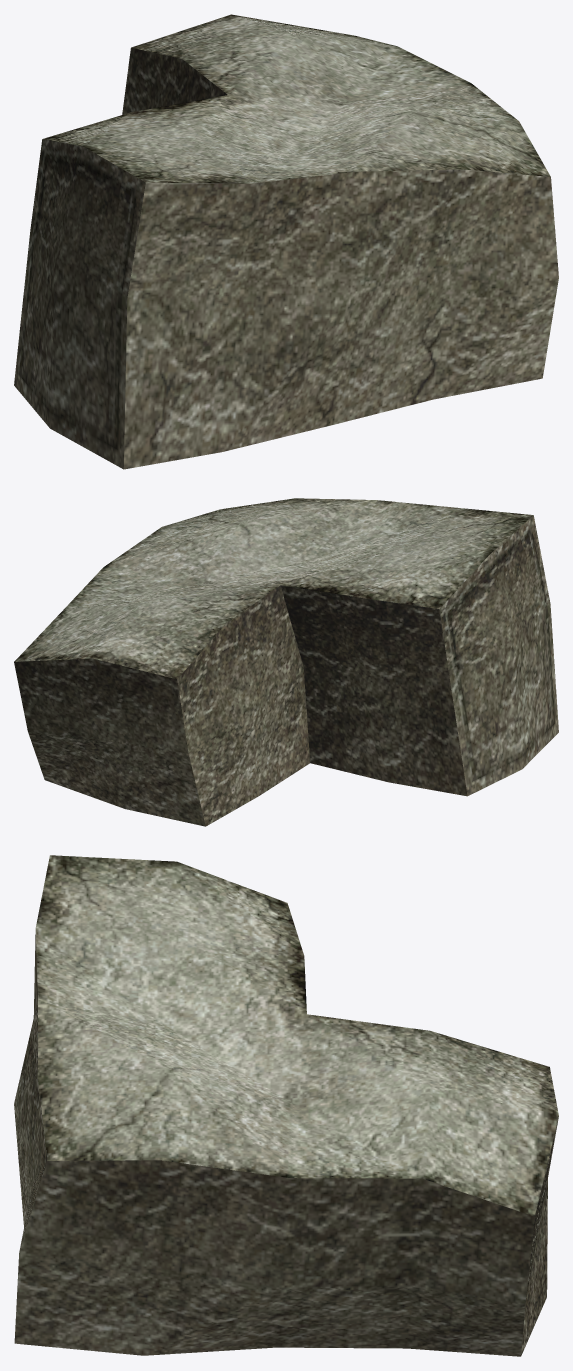
Rendered from ob-bigstone01.fbx.
3 views of the same model, one above another, from view 1: azimuth 30°, elevation 25°; view 2: azimuth 150°, elevation 25°; view 3: azimuth 270°, elevation 25° (orthographic). The views are drawn at different scales.
Parts seen in each view (by area): view 1: Sphere01; view 2: Sphere01; view 3: Sphere01.
Boxes of the visible parts, x1,y1,x2,y2 form: Sphere01: (14,14,558,469); Sphere01: (14,498,558,826); Sphere01: (14,855,558,1356).
Size of the model in its own units: 7.09 by 3.9 by 6.6.
